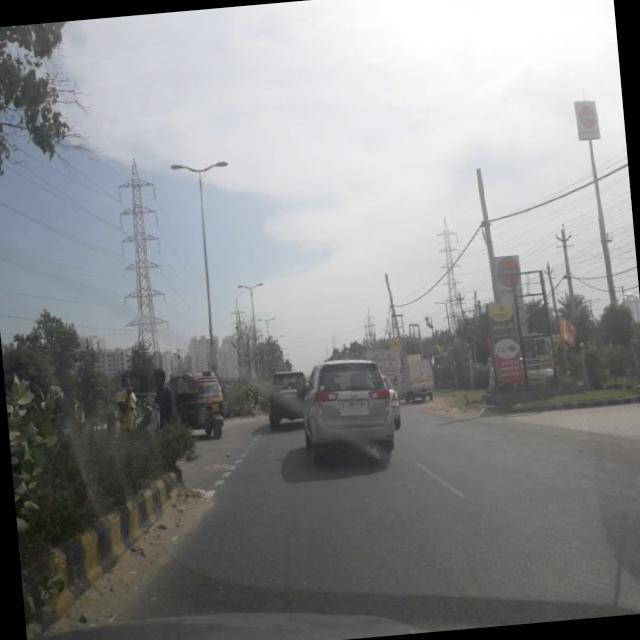crack: (121, 437, 640, 613)
